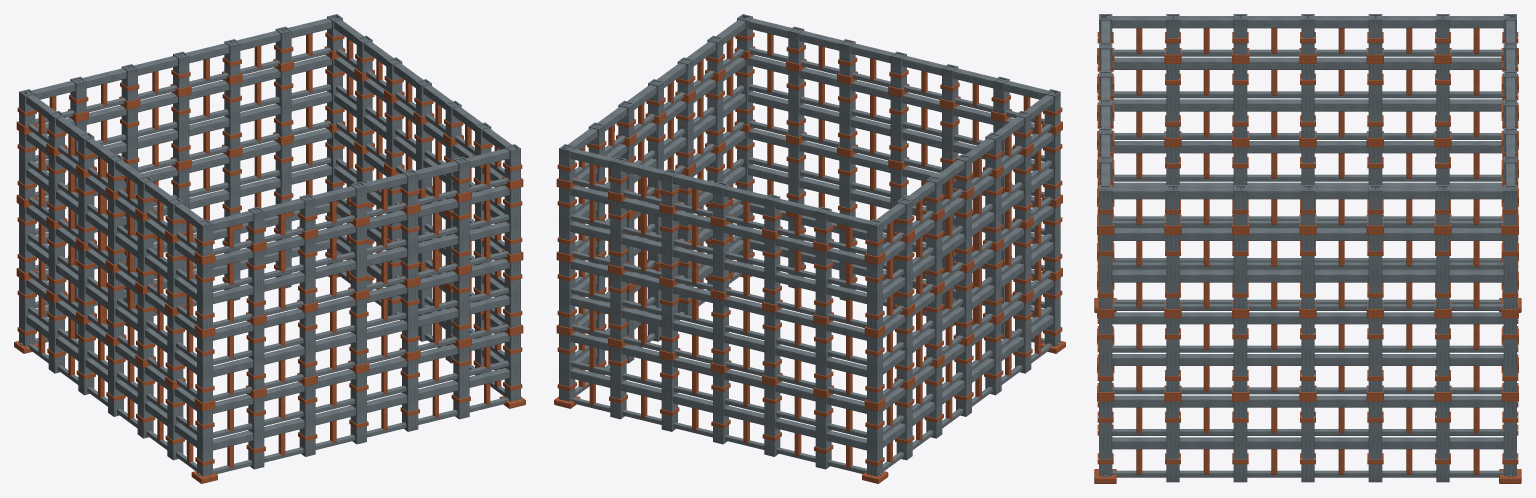
3 views of the same model, side by side, from view 1: azimuth 30°, elevation 25°; view 2: azimuth 150°, elevation 25°; view 3: azimuth 270°, elevation 25° (orthographic). The views are drawn at different scales.
Parts seen in each view (by area): view 1: Tier 0 side 0 post 4, Tier 0 side 0 post 1, Tier 0 side 0 post 5, Tier 0 side 0 post 2, Tier 0 side 0 post 0, Tier 2 side 0 post 0, Tier 0 side 0 post 3, Tier 1 side 0 post 0, Tier 1 side 0 post 1, Tier 1 side 0 post 5, Tier 2 side 0 post 1, Tier 2 side 0 post 4 (+37 smaller); view 2: Tier 0 side 2 post 2, Tier 0 side 2 post 1, Tier 0 side 2 post 5, Tier 0 side 2 post 4, Tier 0 side 3 post 0, Tier 2 side 3 post 0, Tier 1 side 3 post 0, Tier 0 side 2 post 3, Tier 1 side 2 post 5, Tier 2 side 2 post 5, Tier 1 side 2 post 1, Tier 2 side 0 post 3 (+37 smaller); view 3: Tier 0 side 1 post 2, Tier 0 side 1 post 4, Tier 0 side 1 post 1, Tier 0 side 1 post 3, Tier 0 side 1 post 5, Tier 1 side 1 post 2, Tier 1 side 1 post 4, Tier 2 side 1 post 2, Tier 2 side 1 post 4, Tier 2 side 3 post 2, Tier 2 side 3 post 4, Tier 0 side 1 post 0 (+97 smaller).
Part boxes in pixels (<box>): Tier 0 side 0 post 4: <box>402,359,418,431</box>; Tier 0 side 0 post 1: <box>248,396,264,469</box>; Tier 0 side 0 post 5: <box>453,346,469,419</box>; Tier 0 side 0 post 2: <box>299,384,315,456</box>; Tier 0 side 0 post 0: <box>197,408,212,476</box>; Tier 2 side 0 post 0: <box>197,261,212,329</box>; Tier 0 side 0 post 3: <box>350,371,366,444</box>; Tier 1 side 0 post 0: <box>197,335,212,402</box>; Tier 1 side 0 post 1: <box>248,323,264,390</box>; Tier 1 side 0 post 5: <box>453,273,469,340</box>; Tier 2 side 0 post 1: <box>248,250,264,317</box>; Tier 2 side 0 post 4: <box>402,212,418,279</box>; Tier 0 side 2 post 2: <box>661,359,677,431</box>; Tier 0 side 2 post 1: <box>610,346,626,419</box>; Tier 0 side 2 post 5: <box>815,396,831,469</box>; Tier 0 side 2 post 4: <box>764,384,780,456</box>; Tier 0 side 3 post 0: <box>867,408,882,476</box>; Tier 2 side 3 post 0: <box>867,261,882,329</box>; Tier 1 side 3 post 0: <box>867,335,882,402</box>; Tier 0 side 2 post 3: <box>713,371,728,444</box>; Tier 1 side 2 post 5: <box>815,323,831,390</box>; Tier 2 side 2 post 5: <box>815,250,831,317</box>; Tier 1 side 2 post 1: <box>610,273,626,340</box>; Tier 2 side 0 post 3: <box>890,95,906,161</box>; Tier 0 side 1 post 2: <box>1233,401,1247,482</box>; Tier 0 side 1 post 4: <box>1368,401,1382,482</box>; Tier 0 side 1 post 1: <box>1166,401,1179,482</box>; Tier 0 side 1 post 3: <box>1301,401,1314,482</box>; Tier 0 side 1 post 5: <box>1436,401,1449,482</box>; Tier 1 side 1 post 2: <box>1233,318,1247,392</box>; Tier 1 side 1 post 4: <box>1368,318,1382,392</box>; Tier 2 side 1 post 2: <box>1233,235,1247,308</box>; Tier 2 side 1 post 4: <box>1368,235,1382,308</box>; Tier 2 side 3 post 2: <box>1368,64,1382,137</box>; Tier 2 side 3 post 4: <box>1233,64,1247,137</box>; Tier 0 side 1 post 0: <box>1099,401,1112,476</box>.
Bounding box in the file's own units: 2.85 × 2.15 × 2.85.
2 materials, 2 textured.
